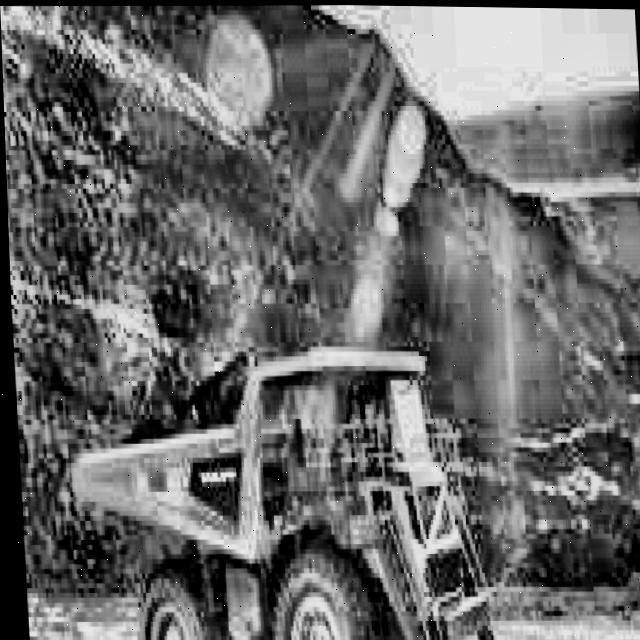dump_truck: (54, 301, 491, 640)
